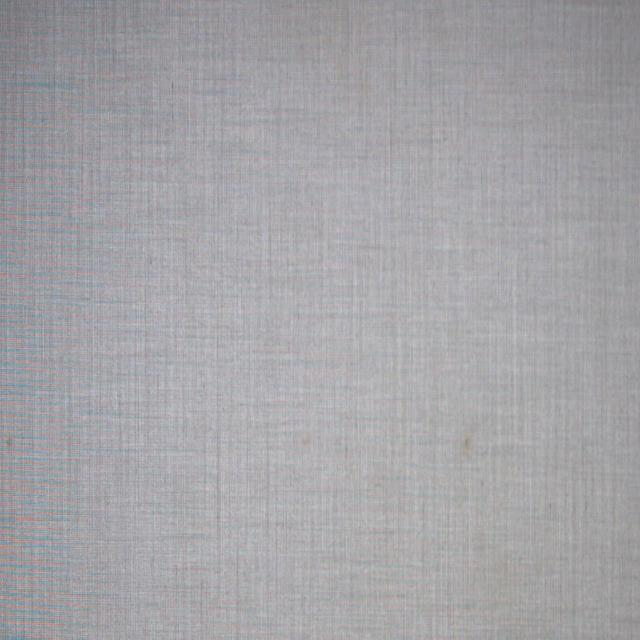dirty: (462, 429, 471, 455), (6, 437, 13, 449)
